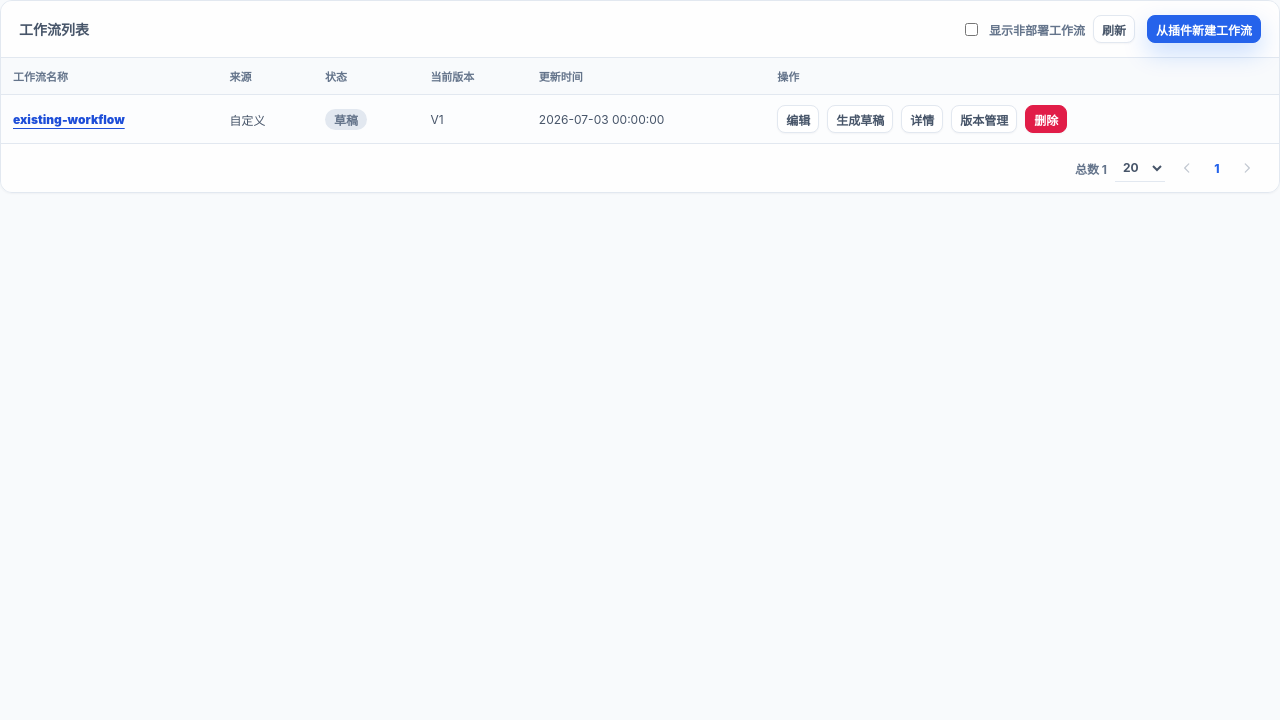
WorkflowTemplatesView › 支持在详情页面修改工作流名称
Click the button "详情". click: click(922, 119)
box: [901, 105, 943, 133]
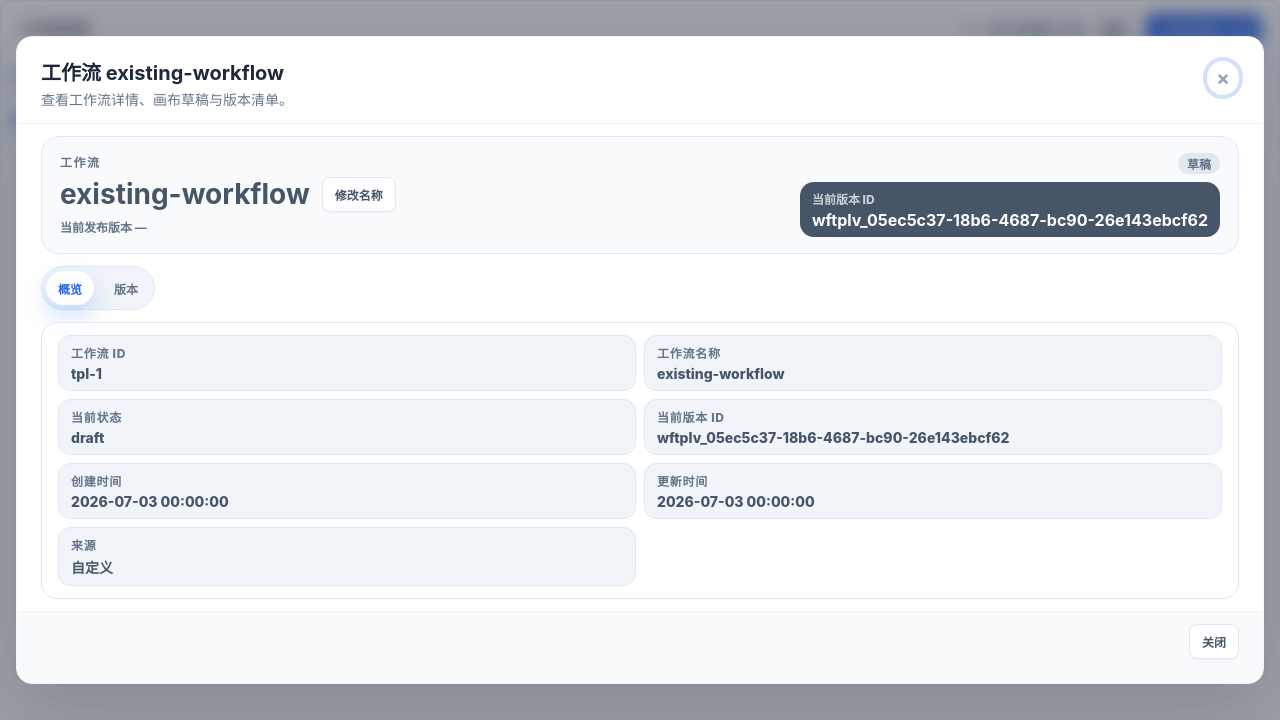
Now the button "修改名称" is shown
Click the button "修改名称". click: click(359, 195)
box: [322, 177, 396, 212]
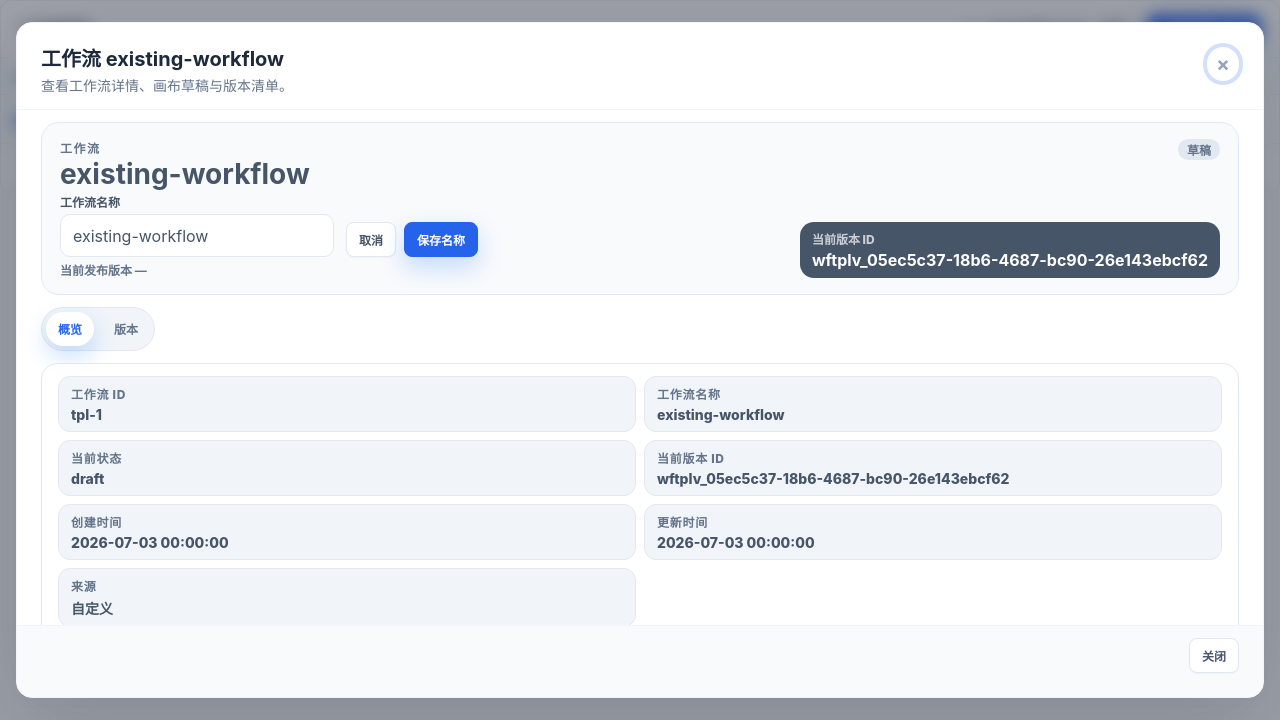
Now the field with placeholder "请输入工作流名称" is shown
Replace the text in the field with placeholder "请输入工作流名称" with "  renamed-workflow  ". click: (197, 236)
box: [60, 214, 334, 257]
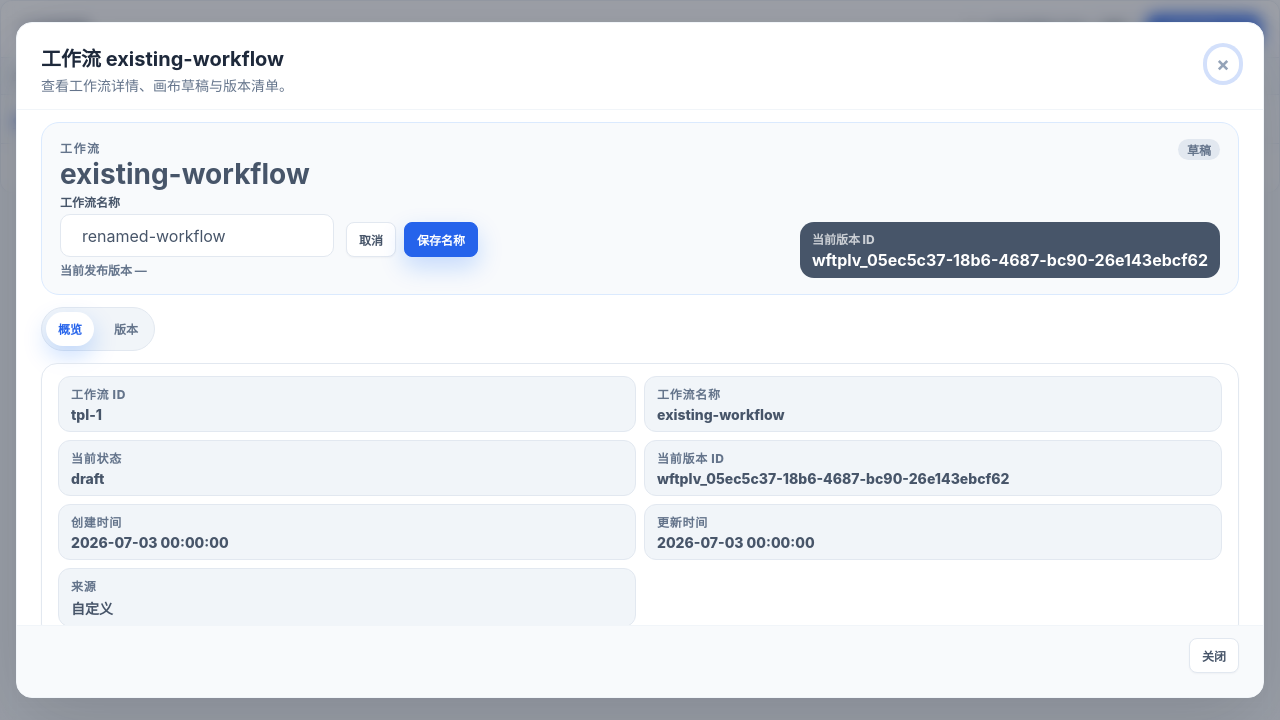
Now the button "保存名称" is shown
Click the button "保存名称". click: click(441, 239)
box: [404, 222, 478, 257]
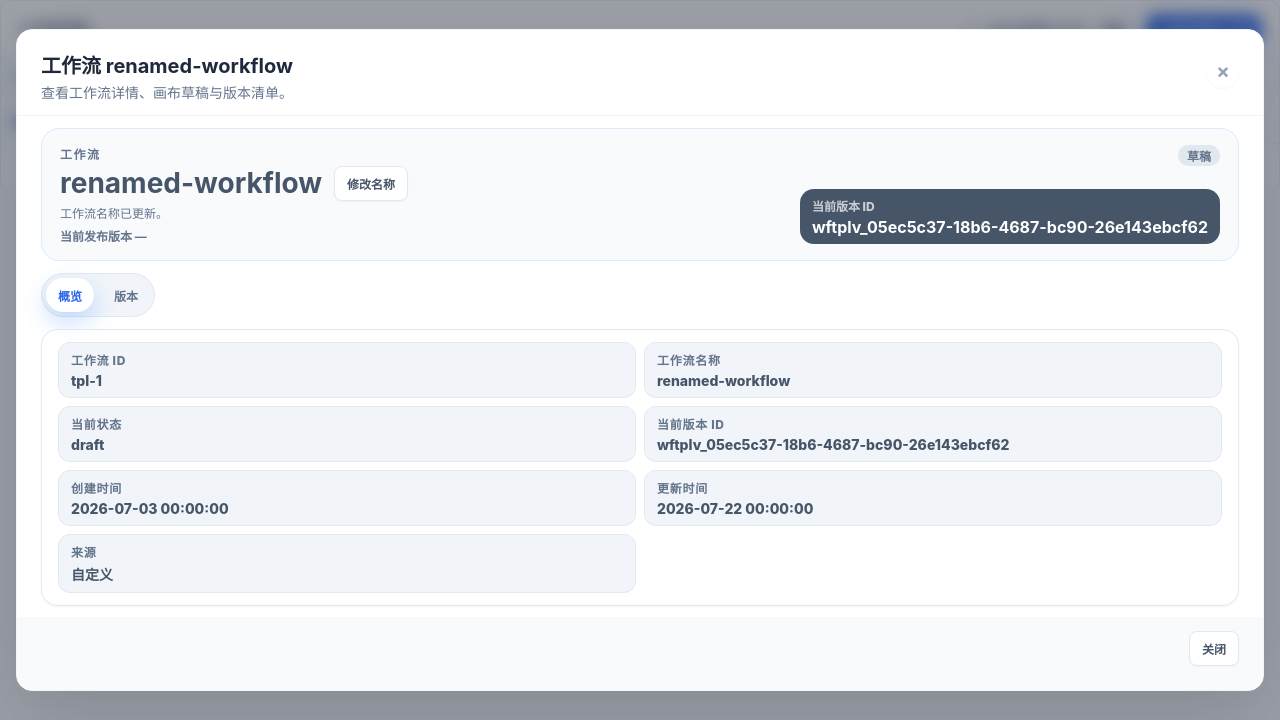
Now the text "工作流名称已更新。" is shown, box [60, 206, 168, 221]
Now the text "renamed-workflow" is shown, box [41, 54, 293, 78]
